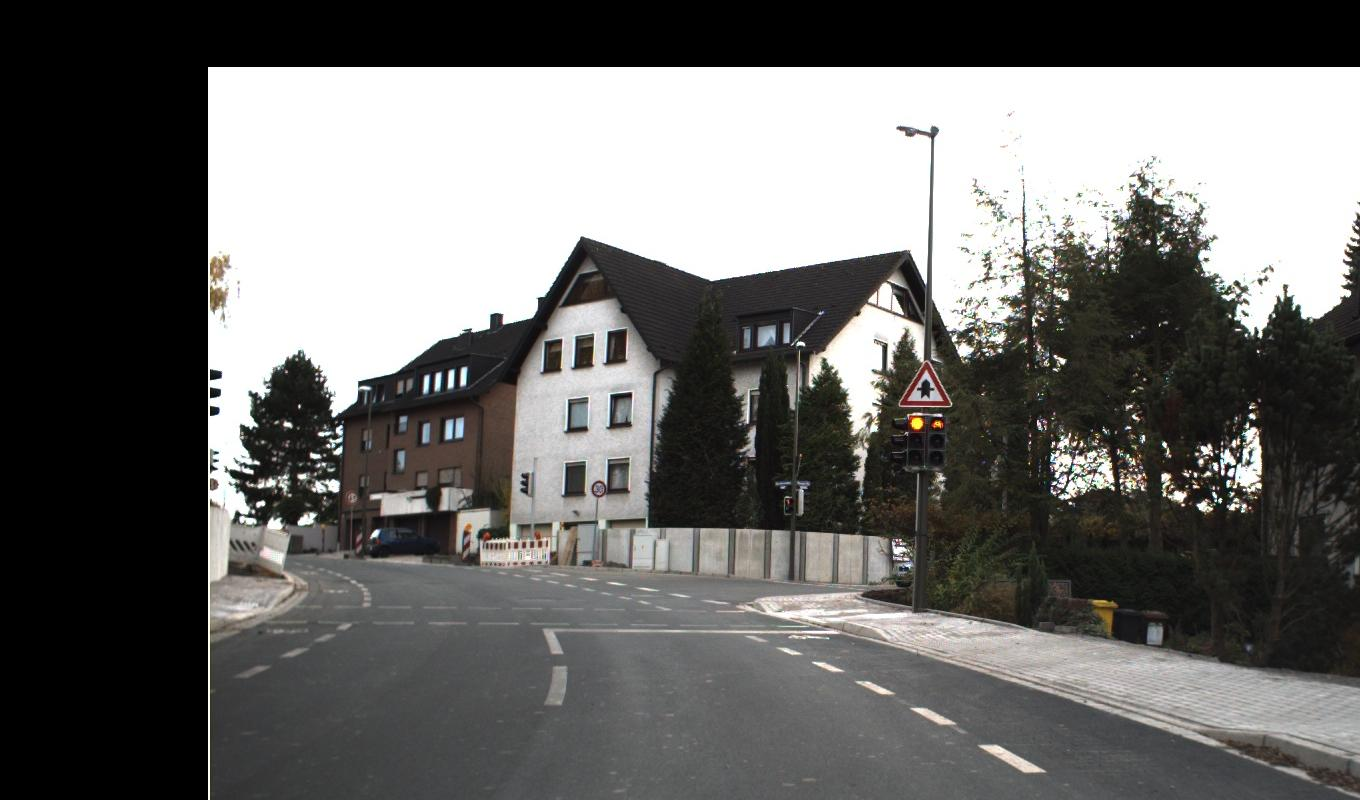speed limit 30: (590, 359, 953, 498)
